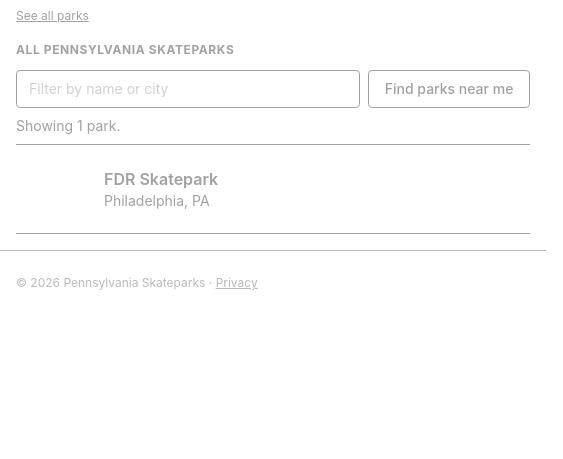
Scenario: SyncedMapList — automatic bbox filter (restored 2026-07-06) › 'See all parks' chip appears when filtered, resets the view end-to-end, and moves focus to the list heading
The image size is (563, 459).
Expected: the text "FDR Skatepark" is shown, [104,169,218,189]
Expected: the text "Bayne Skatepark" is not shown
Click the button "See all parks" at (52, 16), box [16,8,89,24]
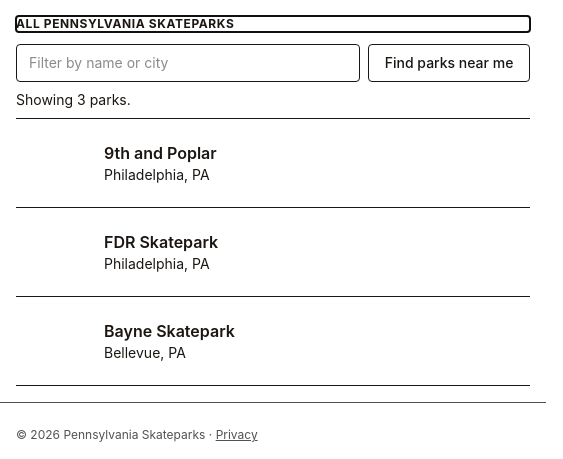
Now the text "Bayne Skatepark" is shown, box [104,321,235,341]
Now the button "See all parks" is gone
